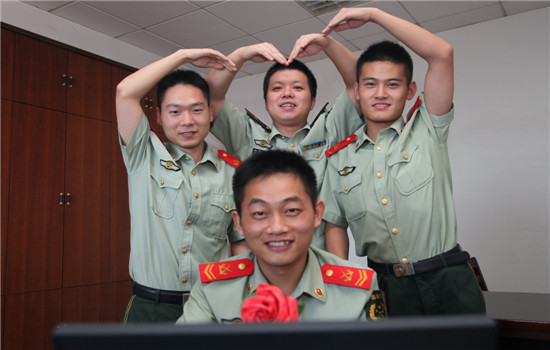handsup: (311, 6, 497, 328), (207, 26, 368, 307), (105, 44, 244, 324)
